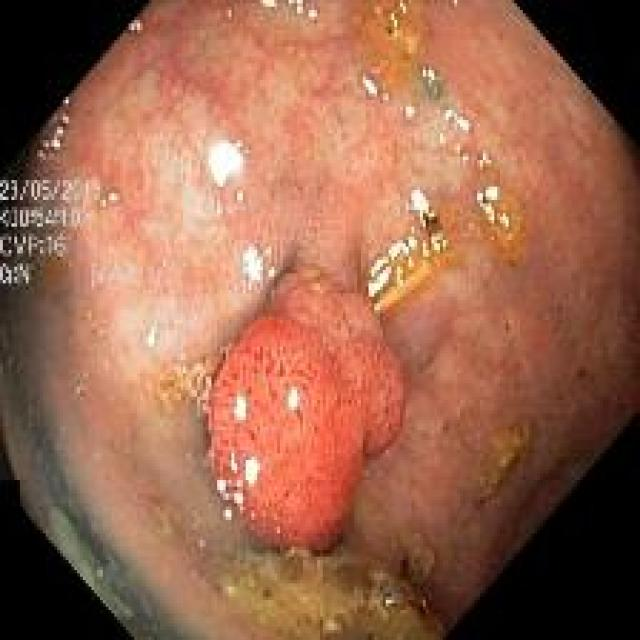Polyps: (209, 274, 402, 552)
